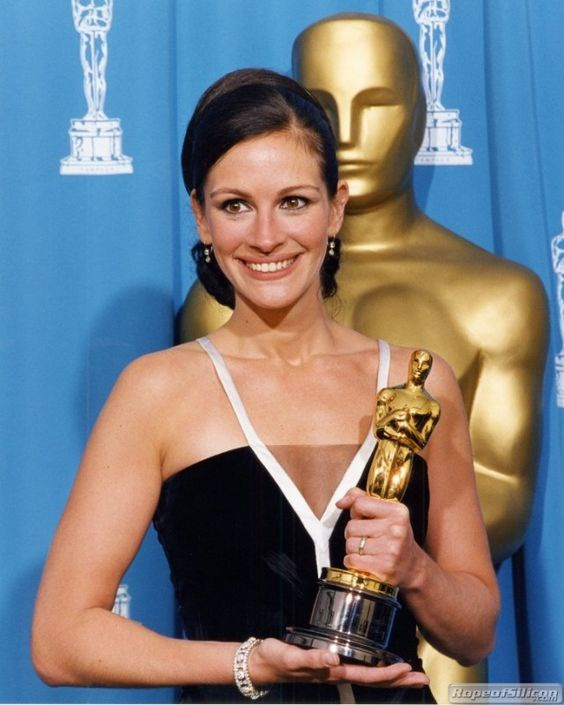hand: (343, 491, 403, 570)
